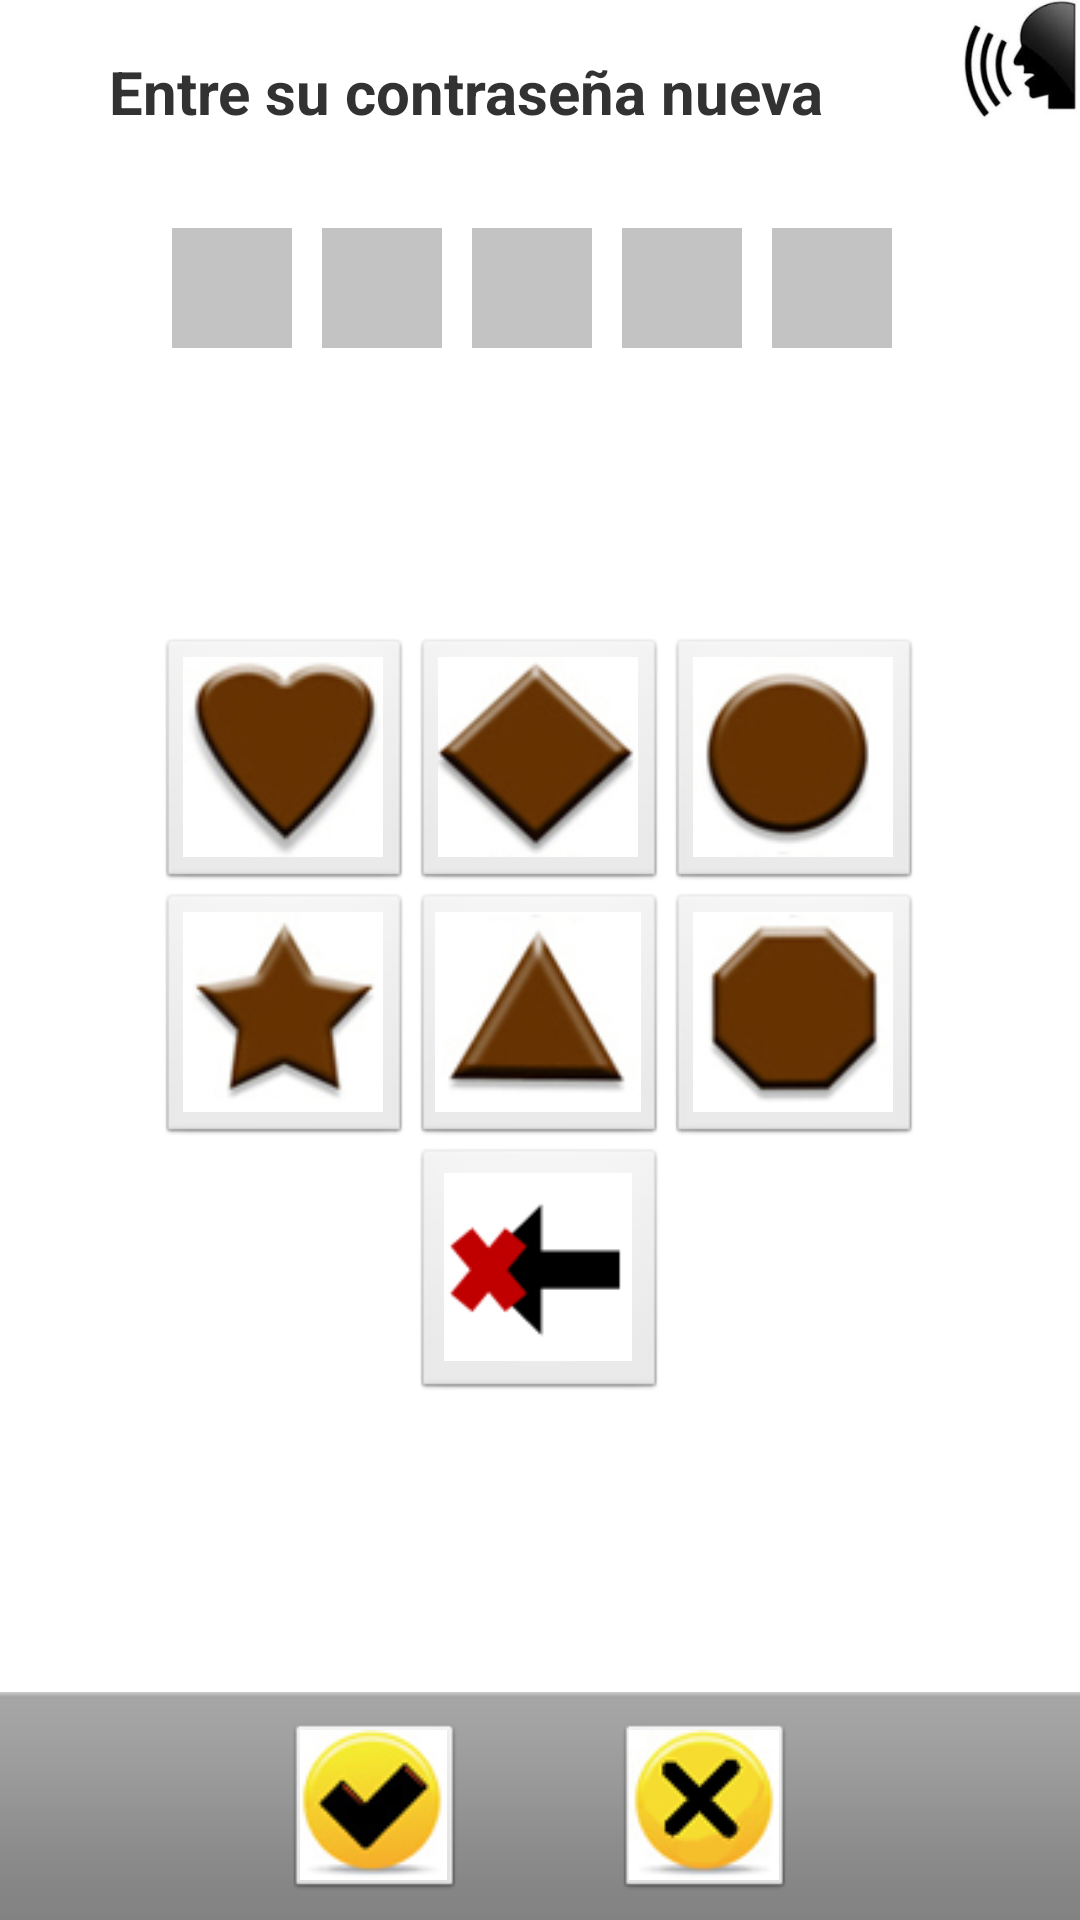

Icon click points for this 1080 × 1920 phone screenshot, format (x,y):
approve: (375,1804)
Delete: (539,1271)
remove: (705,1804)
shape circle: (794,761)
shape diamond: (539,761)
shape heart: (284,759)
shape octagon: (794,1014)
shape star: (284,1016)
shape triangle: (539,1016)
Sound Icon: (1020,59)
